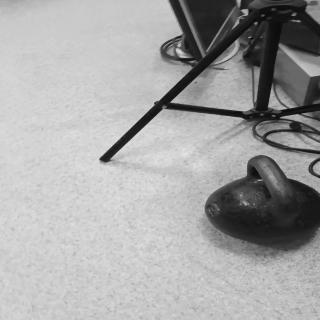kettlebell: (205, 155, 319, 245)
